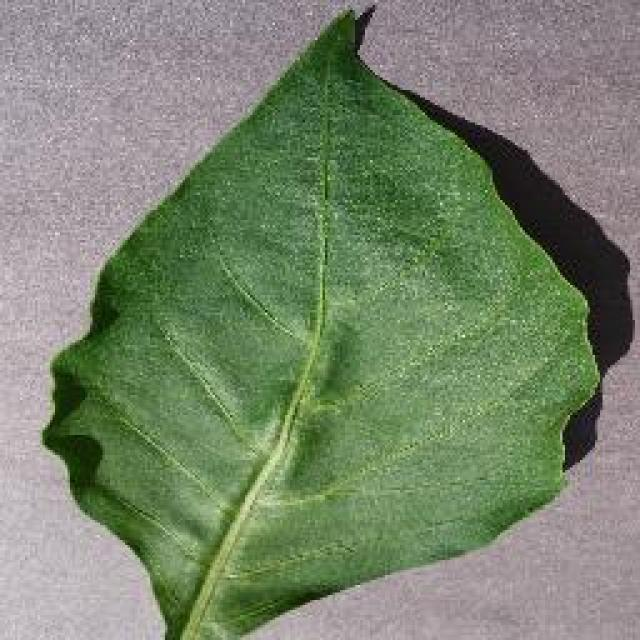Chilli_Healthy: (40, 2, 602, 638)
